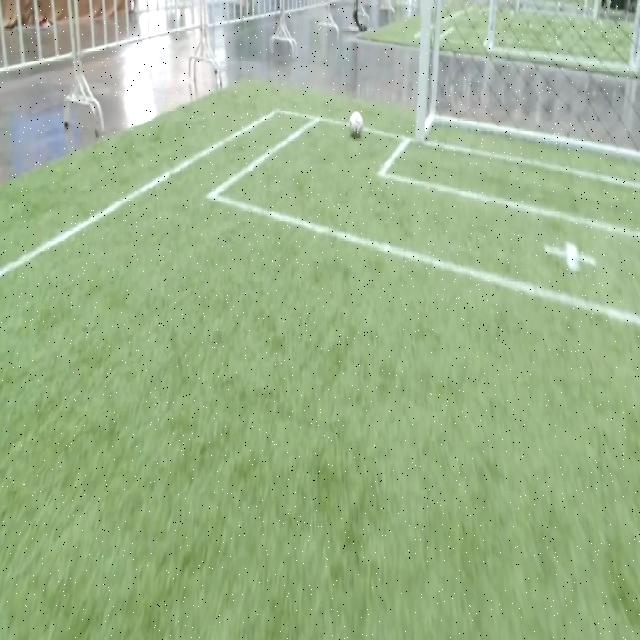ball: (350, 112, 363, 136)
goalpost: (411, 111, 430, 150)
